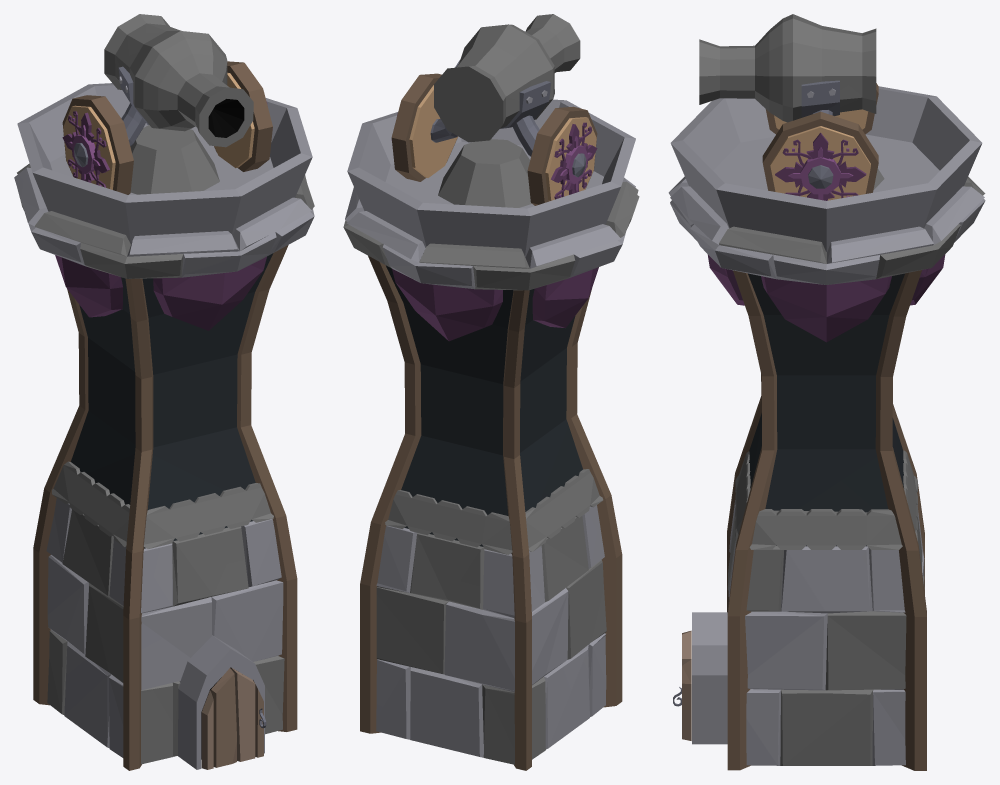
The model's file is Cannon_LVL1.fbx.
3 views of the same model, side by side, from view 1: azimuth 30°, elevation 25°; view 2: azimuth 150°, elevation 25°; view 3: azimuth 270°, elevation 25° (orthographic). The views are drawn at different scales.
Parts seen in each view (by area): view 1: Cannon_tower_LVL_1, Cannon_tower_LVL_1.001; view 2: Cannon_tower_LVL_1, Cannon_tower_LVL_1.001; view 3: Cannon_tower_LVL_1, Cannon_tower_LVL_1.001.
Boxes of the visible parts, box(x1,y1,x2,y2) form: Cannon_tower_LVL_1: box(14, 83, 314, 770); Cannon_tower_LVL_1.001: box(62, 14, 272, 194); Cannon_tower_LVL_1: box(343, 99, 639, 770); Cannon_tower_LVL_1.001: box(391, 14, 597, 205); Cannon_tower_LVL_1: box(668, 86, 985, 770); Cannon_tower_LVL_1.001: box(699, 14, 878, 200).
Size of the model in its own units: 604 by 1488 by 603.
